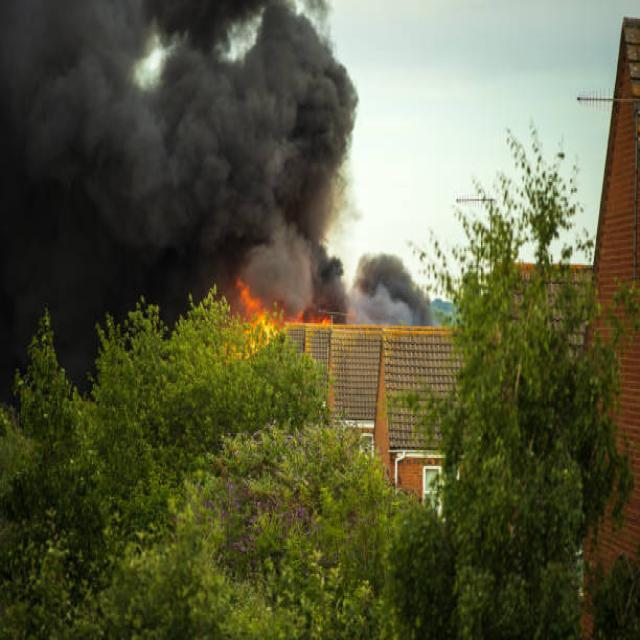Fire: (233, 271, 332, 335)
Smoke: (0, 0, 355, 245)
